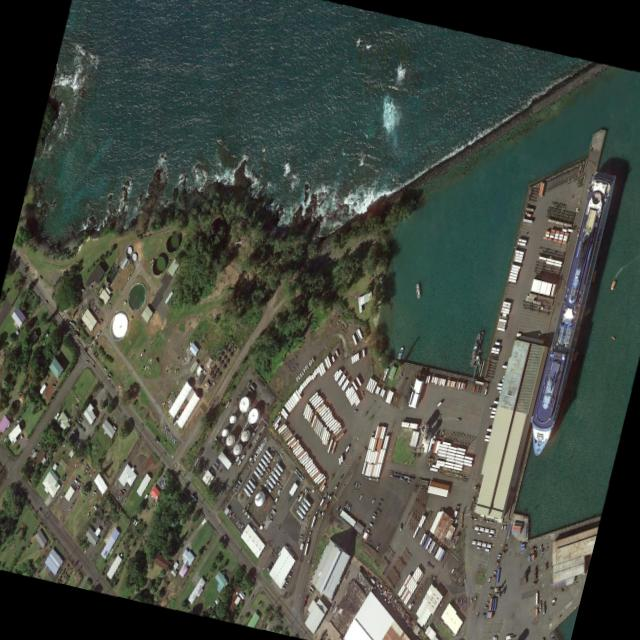large-vehicle: (500, 363, 512, 369), (192, 456, 198, 467), (501, 374, 511, 380), (500, 378, 510, 384), (495, 385, 506, 390), (490, 406, 499, 412), (489, 409, 498, 415), (483, 433, 492, 439), (491, 399, 501, 404), (485, 427, 495, 432), (482, 437, 492, 442), (495, 382, 507, 386), (497, 390, 506, 394), (488, 414, 497, 418), (153, 436, 158, 443), (501, 524, 505, 531), (483, 547, 489, 551), (499, 524, 502, 531), (475, 545, 480, 549), (487, 533, 492, 537), (496, 552, 499, 556), (476, 531, 480, 534)
ship: (521, 165, 616, 461), (467, 331, 481, 365), (395, 345, 403, 359), (414, 281, 420, 298), (582, 305, 589, 316), (571, 349, 577, 360), (609, 279, 615, 290), (590, 269, 595, 281), (476, 361, 481, 371), (475, 357, 480, 365), (58, 491, 63, 499), (609, 334, 614, 339)
small-vehicle: (327, 490, 333, 499), (449, 565, 454, 573), (482, 386, 487, 394), (227, 509, 232, 517), (333, 480, 338, 488), (374, 541, 379, 549), (537, 599, 540, 611), (398, 521, 402, 530), (76, 304, 81, 311), (337, 505, 342, 512), (125, 273, 129, 281), (265, 515, 270, 521), (542, 600, 544, 614), (471, 384, 475, 391), (168, 432, 172, 439), (229, 511, 233, 518), (231, 512, 235, 519), (334, 503, 338, 510), (342, 499, 346, 506), (238, 523, 242, 530), (322, 490, 326, 497), (239, 525, 243, 532), (248, 593, 252, 600), (338, 471, 342, 478), (101, 365, 106, 370), (73, 395, 78, 400), (364, 527, 369, 532), (452, 518, 456, 524), (438, 600, 442, 606), (105, 374, 109, 380), (202, 466, 206, 472), (70, 499, 74, 505), (231, 485, 235, 491), (270, 507, 274, 513), (226, 508, 230, 514), (2, 434, 6, 440), (62, 306, 66, 312), (94, 307, 98, 313), (35, 441, 39, 447), (32, 546, 36, 552), (234, 518, 238, 524), (367, 520, 371, 526), (343, 501, 347, 507), (346, 504, 350, 510), (351, 480, 355, 486), (355, 483, 359, 489), (303, 514, 307, 520), (251, 525, 255, 531), (273, 545, 277, 551), (276, 549, 280, 555), (321, 633, 325, 639), (282, 590, 286, 596), (307, 587, 311, 593), (359, 389, 362, 396), (486, 576, 489, 583), (353, 480, 356, 487), (75, 474, 79, 479), (549, 598, 554, 602), (74, 476, 78, 481), (455, 416, 460, 420), (66, 505, 70, 510), (267, 512, 271, 517), (92, 306, 96, 311), (50, 382, 54, 387), (370, 513, 374, 518), (336, 505, 340, 510), (357, 494, 361, 499), (370, 476, 375, 480), (267, 563, 271, 568), (265, 566, 269, 571), (330, 600, 334, 605), (298, 518, 302, 523), (408, 387, 411, 393), (170, 435, 173, 441), (165, 429, 168, 435), (172, 437, 175, 443), (30, 446, 33, 452), (18, 432, 21, 438), (73, 477, 76, 483), (96, 329, 99, 335), (345, 502, 348, 508), (323, 485, 326, 491), (237, 614, 240, 620), (550, 634, 554, 638), (550, 602, 554, 606), (481, 610, 485, 614), (483, 604, 487, 608), (484, 518, 488, 522), (488, 519, 492, 523), (91, 490, 95, 494), (402, 477, 406, 481), (268, 561, 272, 565), (409, 601, 413, 605), (287, 570, 291, 574), (450, 538, 453, 543), (398, 372, 401, 377), (409, 383, 412, 388), (402, 474, 407, 477), (164, 428, 167, 433), (236, 520, 239, 525), (287, 544, 290, 549), (76, 418, 79, 423), (74, 402, 77, 407), (37, 275, 40, 280), (96, 319, 99, 324), (90, 363, 93, 368), (237, 522, 240, 527), (370, 498, 373, 503), (352, 488, 355, 493), (366, 476, 371, 479), (326, 491, 329, 496), (457, 597, 459, 604), (459, 597, 461, 604), (549, 633, 553, 636), (472, 517, 476, 520), (559, 587, 562, 591), (488, 585, 492, 588), (392, 471, 396, 474), (388, 471, 392, 474), (388, 473, 392, 476), (352, 408, 356, 411), (403, 376, 407, 379), (486, 593, 490, 596), (492, 569, 496, 572), (494, 560, 498, 563), (536, 331, 539, 335), (495, 555, 499, 558), (395, 475, 399, 478), (78, 416, 81, 420), (43, 299, 46, 303), (92, 305, 95, 309), (398, 476, 402, 479), (372, 511, 375, 515), (363, 475, 367, 478), (338, 636, 341, 640), (283, 580, 287, 583), (280, 585, 284, 588), (469, 596, 471, 601), (163, 424, 165, 429), (217, 489, 219, 494), (83, 360, 88, 362), (491, 574, 494, 577), (485, 600, 488, 603), (399, 473, 402, 476), (396, 472, 399, 475), (392, 474, 395, 477), (218, 488, 221, 491), (406, 479, 409, 482), (548, 631, 552, 633), (286, 574, 290, 576)
storage-tank: (236, 393, 251, 413), (245, 405, 260, 425), (251, 489, 265, 507), (238, 428, 250, 442), (223, 432, 235, 446), (231, 441, 242, 455), (227, 412, 236, 424), (219, 426, 228, 437)
